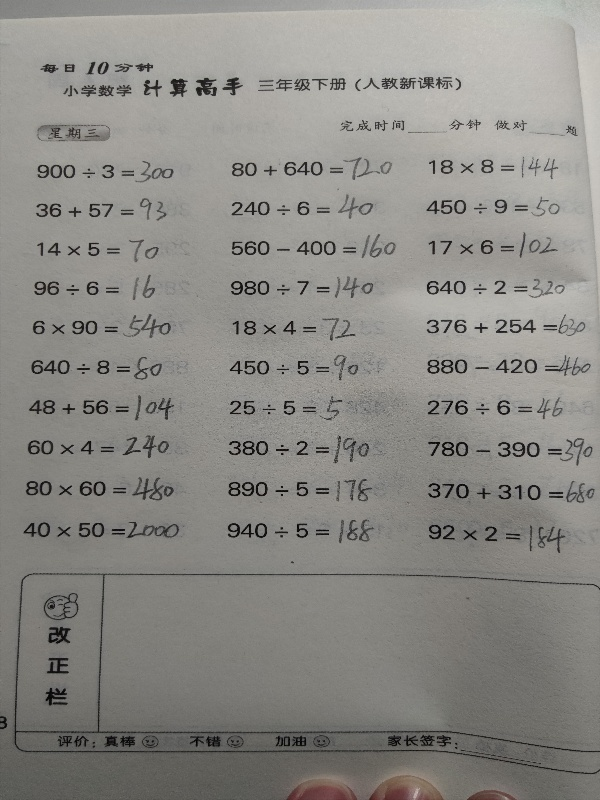equation: (426, 432, 597, 467), (23, 471, 181, 508), (227, 183, 380, 221), (428, 517, 572, 557), (424, 478, 598, 510), (29, 312, 186, 347), (228, 231, 400, 262), (30, 272, 193, 304), (227, 155, 395, 186), (224, 516, 385, 548), (423, 311, 590, 341), (424, 351, 595, 380), (426, 391, 574, 423), (220, 478, 385, 506), (425, 230, 560, 264), (225, 435, 378, 465), (27, 394, 179, 424), (20, 516, 181, 544), (227, 273, 377, 302), (34, 157, 178, 187), (28, 353, 173, 382), (228, 315, 359, 347), (34, 236, 173, 266), (32, 192, 170, 222), (423, 275, 569, 303), (28, 432, 174, 460), (423, 193, 564, 221), (425, 151, 561, 180), (228, 355, 367, 382), (224, 393, 352, 422)
